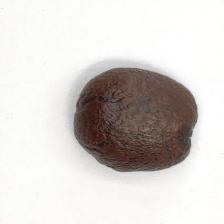NG: (73, 85, 117, 152)
